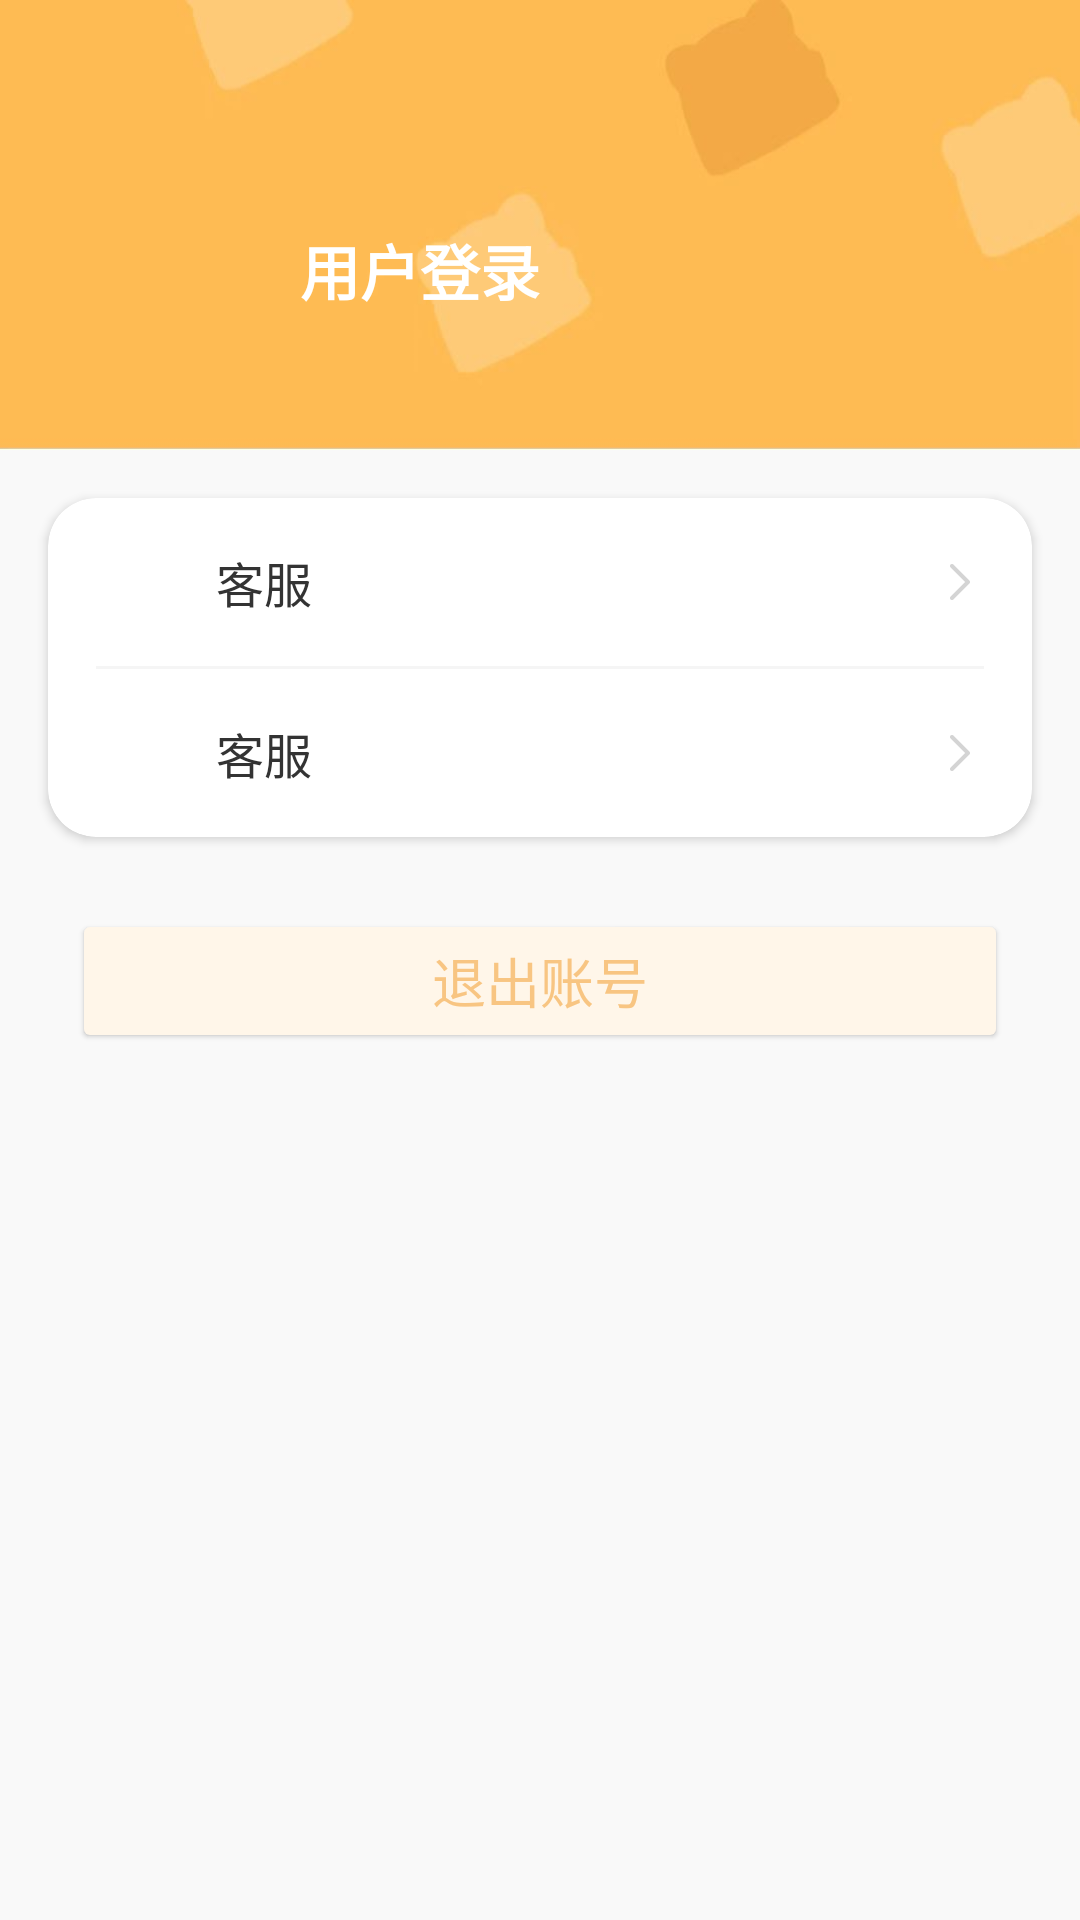

Icons on this 1080px×1920px Android screen, each with its box as rect(x1, y1, x2, y2):
arrow right: rect(950, 564, 970, 600), rect(950, 735, 970, 771)
